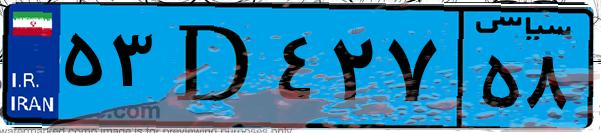2: (330, 28, 385, 110)
3: (110, 28, 158, 98)
4: (270, 28, 330, 110)
5: (57, 26, 110, 100), (475, 38, 525, 113)
7: (385, 28, 445, 110)
8: (525, 38, 570, 115)
D: (158, 12, 270, 120)
